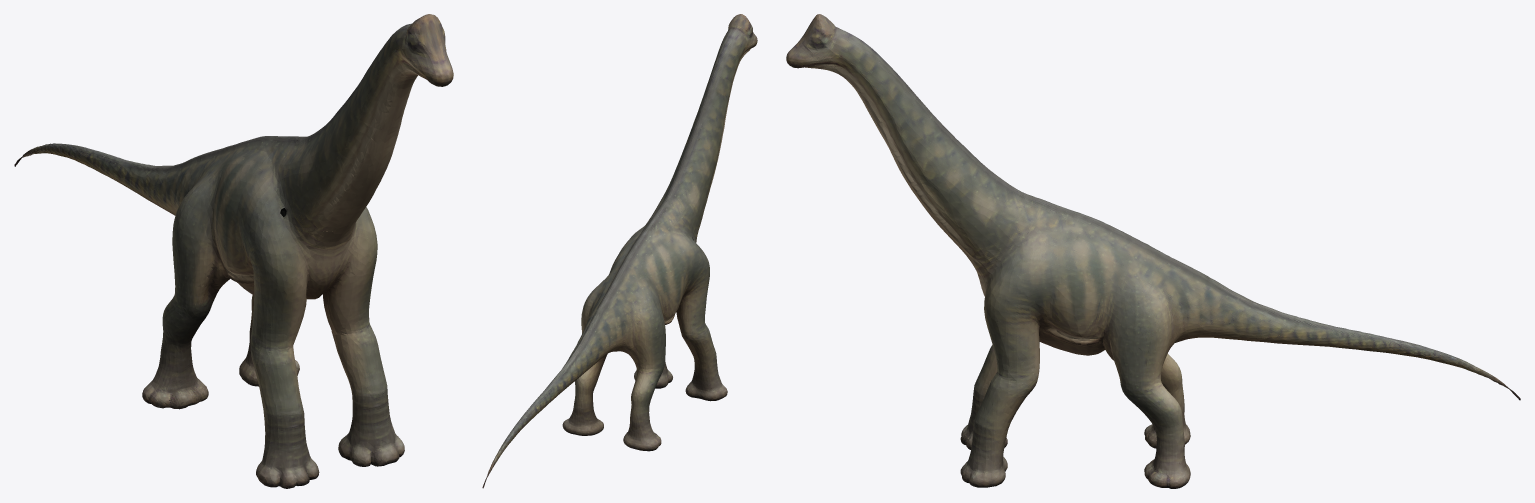
3 renders of one model, left to right at view 1: azimuth 30°, elevation 25°; view 2: azimuth 150°, elevation 25°; view 3: azimuth 270°, elevation 25°, orthographic. The views are drawn at different scales.
Parts seen in each view (by area): view 1: world; view 2: world; view 3: world.
Boxes of the visible parts, x1,y1,x2,y2 form: world: (14,14,453,488); world: (482,14,757,488); world: (786,14,1520,488).
Bounding box in the file's own units: 0.2004 × 0.6701 × 1.
Materials: 1 (1 with a texture image).
